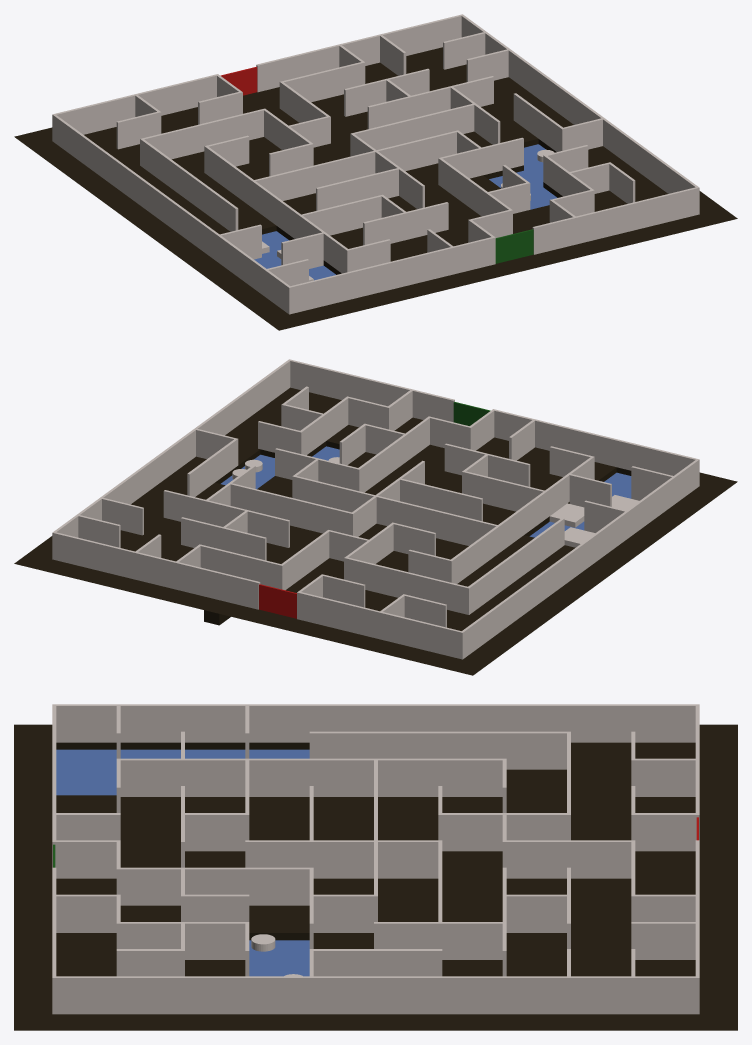
Rendered from maze_with_doors_and_pits.fbx.
The picture shows the model from 3 angles, top to bottom: view 1: azimuth 30°, elevation 25°; view 2: azimuth 150°, elevation 25°; view 3: azimuth 270°, elevation 25°; orthographic projection. The views are drawn at different scales.
Visible parts, largest first — view 1: Maze, Ground, SlowShiftWall_3a, Green Door L, Green Door R; view 2: Maze, Ground, SlowShiftWall_3a, SlowShiftWall_4b, SlowShiftWall_4a, Platform_2, Red Door R; view 3: Maze, Ground, SlowShiftWall_3a, SlowShiftWall_3b, SlowShiftWall_4a, SlowShiftWall_4b, SlowShiftWall_3c, SlowShiftWall_2, SlowShiftWall_1.
Boxes of the visible parts, x1,y1,x2,y2 form: Maze: (52, 14, 699, 314); Ground: (14, 47, 737, 330); SlowShiftWall_3a: (350, 133, 399, 173); Green Door L: (514, 229, 533, 258); Green Door R: (495, 234, 514, 263); Maze: (52, 359, 699, 659); Ground: (14, 387, 737, 675); SlowShiftWall_3a: (350, 479, 399, 536); SlowShiftWall_4b: (468, 410, 494, 450); SlowShiftWall_4a: (405, 416, 429, 460); Platform_2: (549, 503, 584, 527); Red Door R: (259, 584, 278, 613); Maze: (52, 704, 699, 1014); Ground: (14, 724, 737, 1030); SlowShiftWall_3a: (313, 840, 442, 878); SlowShiftWall_3b: (313, 894, 377, 932); SlowShiftWall_4a: (116, 867, 180, 905); SlowShiftWall_4b: (56, 840, 120, 878); SlowShiftWall_3c: (185, 813, 245, 851); SlowShiftWall_2: (438, 922, 502, 959); SlowShiftWall_1: (631, 894, 695, 921).
Bounding box in the file's own units: 9000 × 1000 × 9000.
